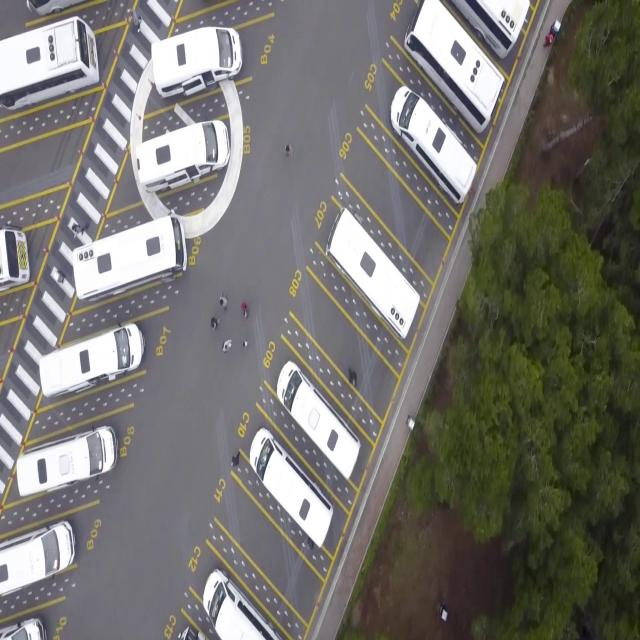people: (130, 9, 142, 33), (72, 224, 88, 237), (348, 367, 358, 386), (210, 316, 220, 332), (219, 292, 228, 308), (223, 339, 233, 353), (241, 302, 249, 318), (232, 452, 240, 468), (285, 144, 293, 158), (242, 339, 249, 348)
